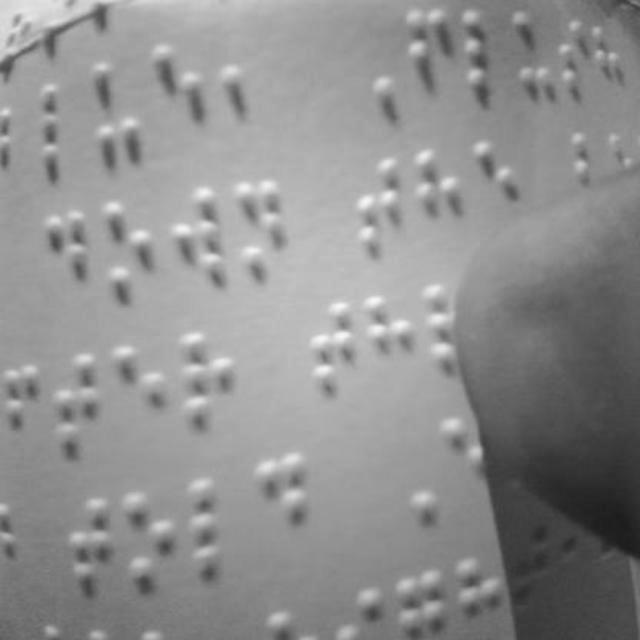braiile: (154, 35, 214, 162), (221, 19, 277, 149), (254, 449, 314, 567), (92, 52, 156, 162), (172, 178, 232, 294), (180, 324, 240, 440), (188, 470, 248, 584), (413, 142, 469, 262), (470, 139, 526, 259), (56, 342, 108, 468), (236, 169, 288, 293), (122, 477, 176, 595), (37, 79, 97, 183), (112, 339, 164, 457), (363, 283, 415, 401), (66, 492, 118, 608), (356, 152, 406, 266), (103, 199, 153, 311), (403, 5, 455, 109), (0, 362, 52, 466), (312, 294, 358, 404), (462, 3, 508, 106), (44, 208, 94, 302), (506, 1, 554, 97), (556, 11, 590, 95)
